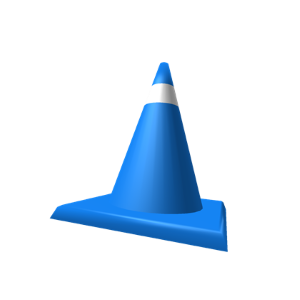traffic cone: (50, 62, 227, 251)
